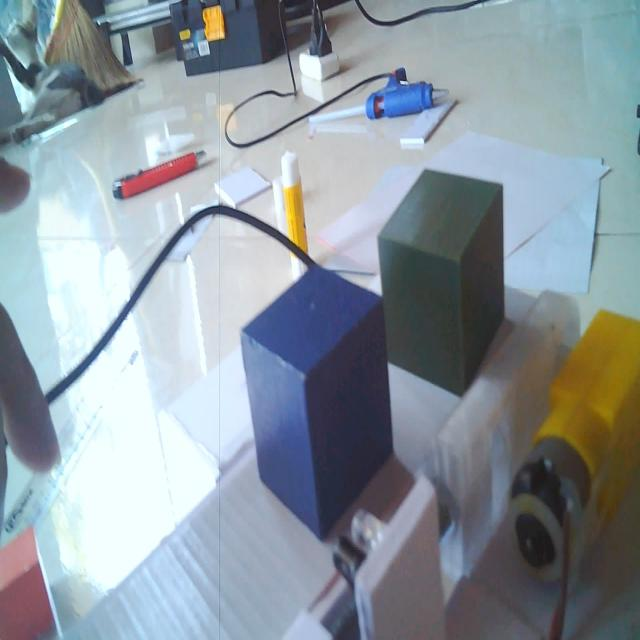blue: (236, 260, 398, 544)
green: (375, 160, 512, 403)
